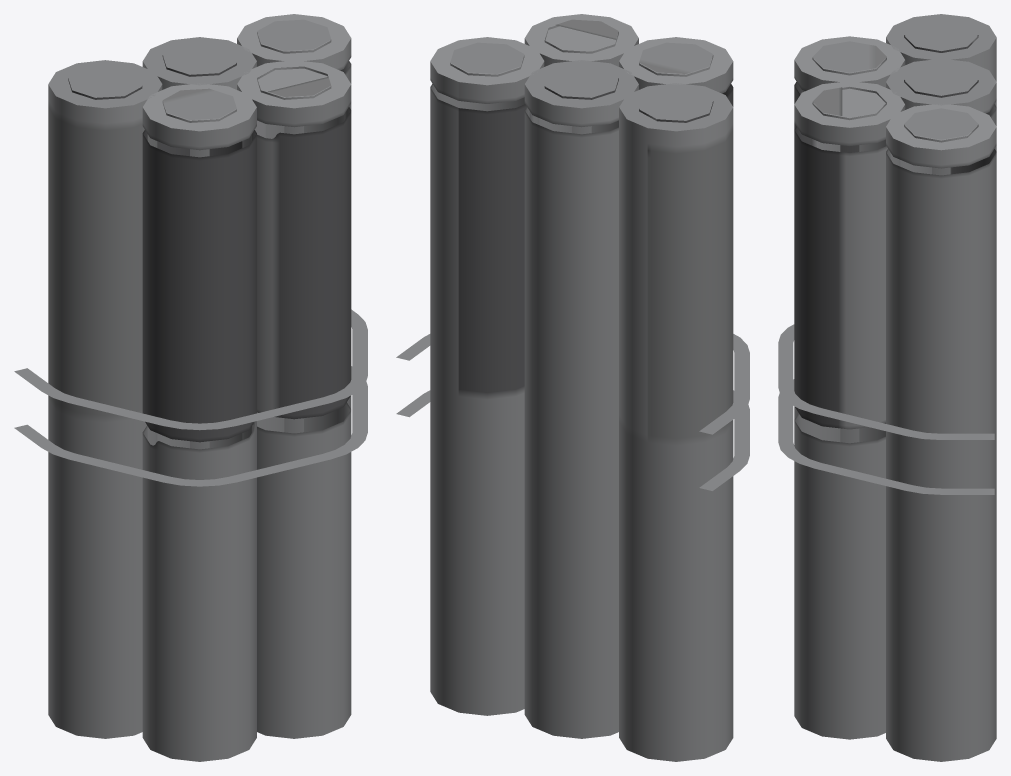
The picture shows the model from 3 angles, left to right: view 1: azimuth 30°, elevation 25°; view 2: azimuth 150°, elevation 25°; view 3: azimuth 270°, elevation 25°; orthographic projection. The views are drawn at different scales.
Bounding box in the file's own units: 0.352 × 0.676 × 0.2169.
